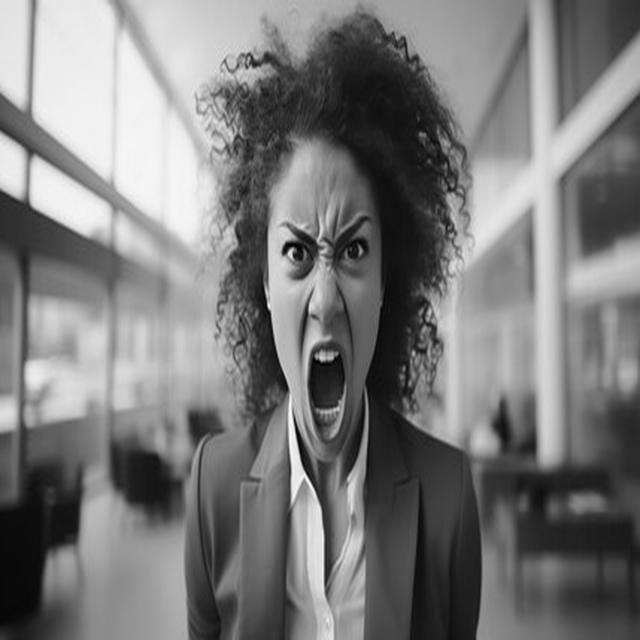Angry: (268, 148, 381, 461)
